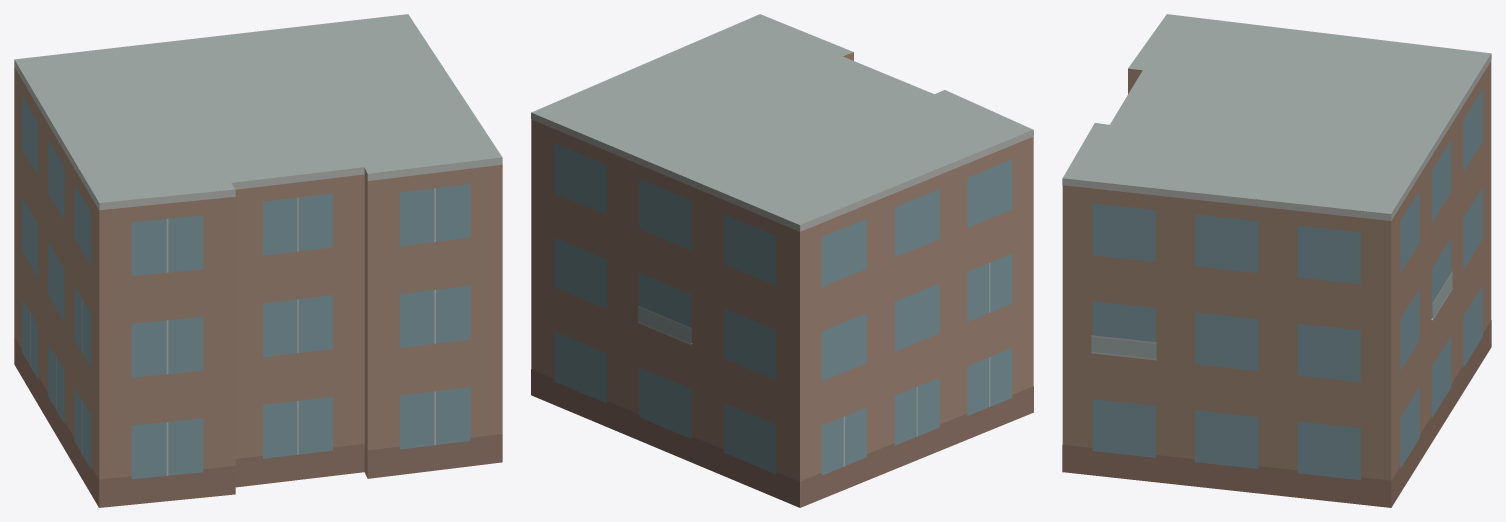
Rendered from survey-upis-32653188.glb.
The picture shows the model from 3 angles, left to right: view 1: azimuth 30°, elevation 25°; view 2: azimuth 150°, elevation 25°; view 3: azimuth 270°, elevation 25°; orthographic projection. The views are drawn at different scales.
Parts seen in each view (by area): view 1: survey-upis-32653188.tmp; view 2: survey-upis-32653188.tmp; view 3: survey-upis-32653188.tmp.
Part boxes in pixels (x1,y1,x2,y2): survey-upis-32653188.tmp: (14,14,502,507); survey-upis-32653188.tmp: (531,14,1033,507); survey-upis-32653188.tmp: (1062,14,1491,507).
Size of the model in its own units: 15.05 by 10.3 by 13.64.
